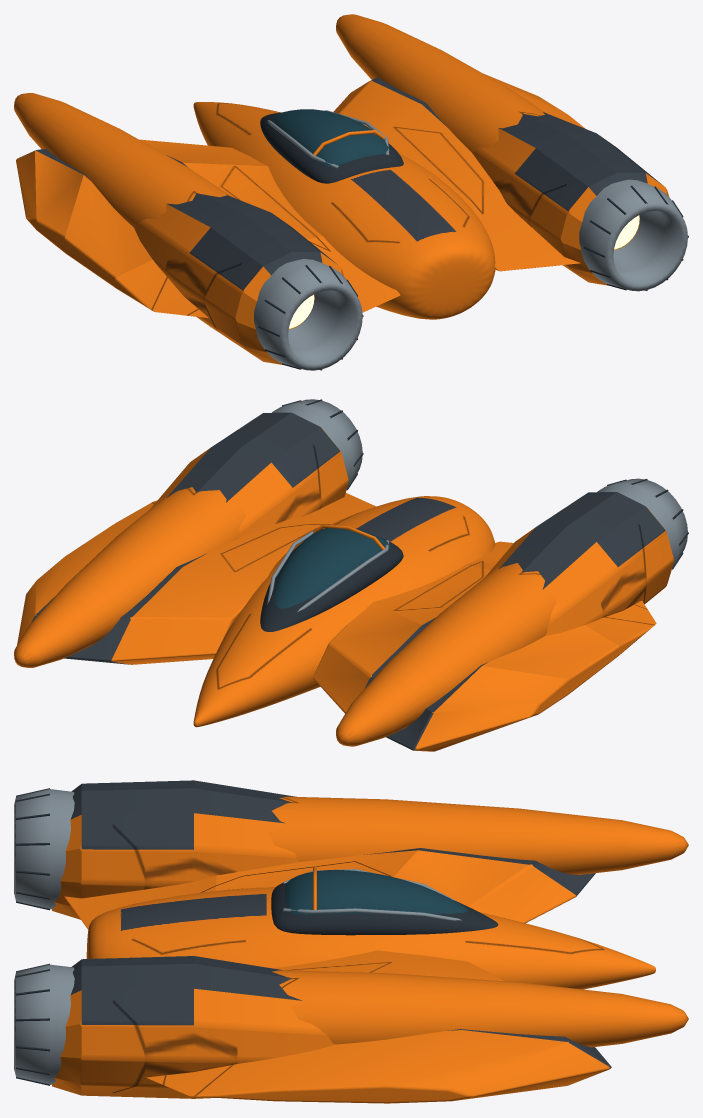
3 views of the same model, one above another, from view 1: azimuth 30°, elevation 25°; view 2: azimuth 150°, elevation 25°; view 3: azimuth 270°, elevation 25° (orthographic). The views are drawn at different scales.
Visible parts, largest first — view 1: CrimsonBiteV2; view 2: CrimsonBiteV2; view 3: CrimsonBiteV2.
Part boxes in pixels (box(x1,y1,x2,y2)): CrimsonBiteV2: box(14, 14, 688, 370); CrimsonBiteV2: box(14, 399, 688, 751); CrimsonBiteV2: box(14, 780, 688, 1103).
Bounding box in the file's own units: 3.04 × 0.7206 × 3.18.
Materials: 6 (2 with a texture image).
